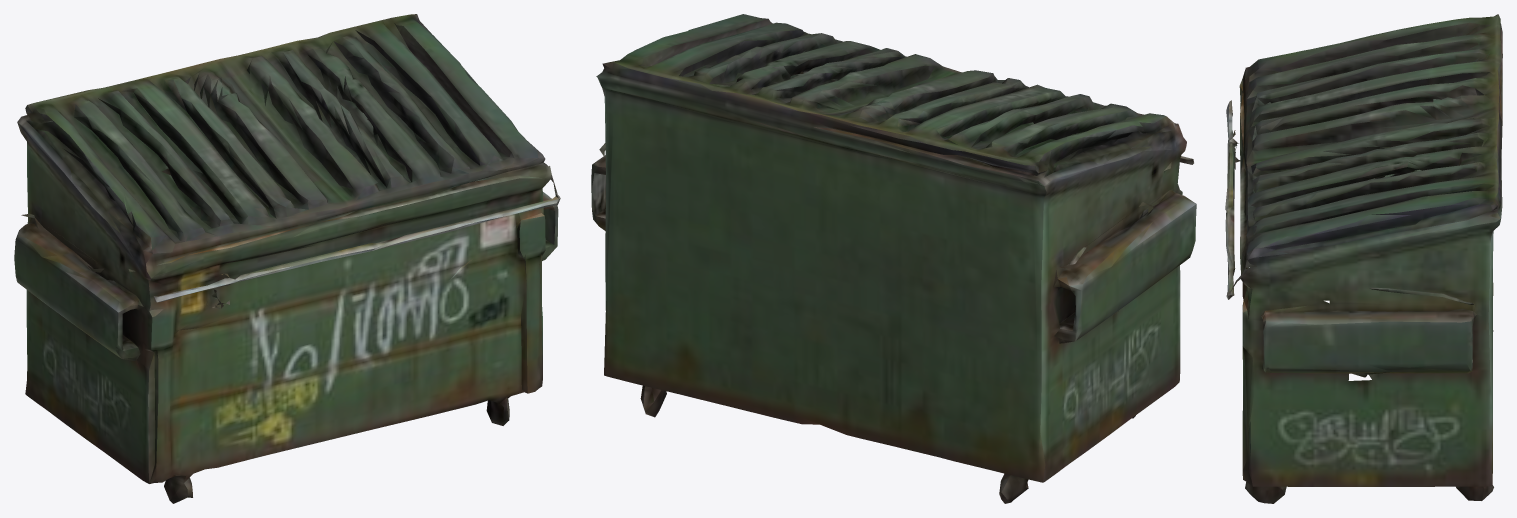
File: street_dumpster.glb
The picture shows the model from 3 angles, left to right: view 1: azimuth 30°, elevation 25°; view 2: azimuth 150°, elevation 25°; view 3: azimuth 270°, elevation 25°; orthographic projection. The views are drawn at different scales.
Visible parts, largest first — view 1: turn; view 2: turn; view 3: turn.
Part boxes in pixels (x1,y1,x2,y2): turn: [14, 14, 560, 503]; turn: [591, 14, 1196, 503]; turn: [1225, 14, 1502, 503].
Size of the model in its own units: 1.86 by 1.3 by 1.02.
1 material, 1 textured.
